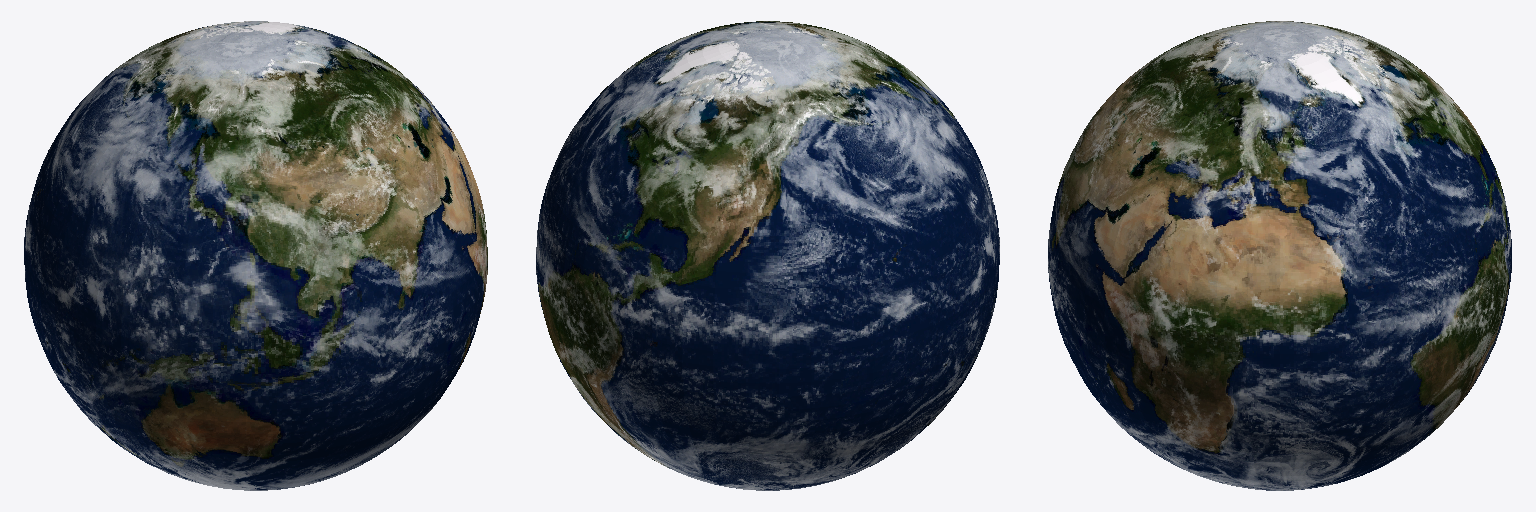
3 renders of one model, left to right at view 1: azimuth 30°, elevation 25°; view 2: azimuth 150°, elevation 25°; view 3: azimuth 270°, elevation 25°, orthographic.
Bounding box in the file's own units: 4.92 × 4.97 × 4.92.
Materials: 1 (1 with a texture image).